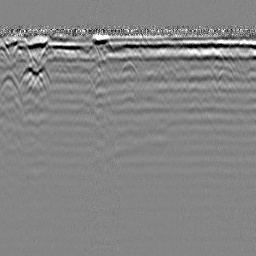cavity: (116, 59, 139, 79)
